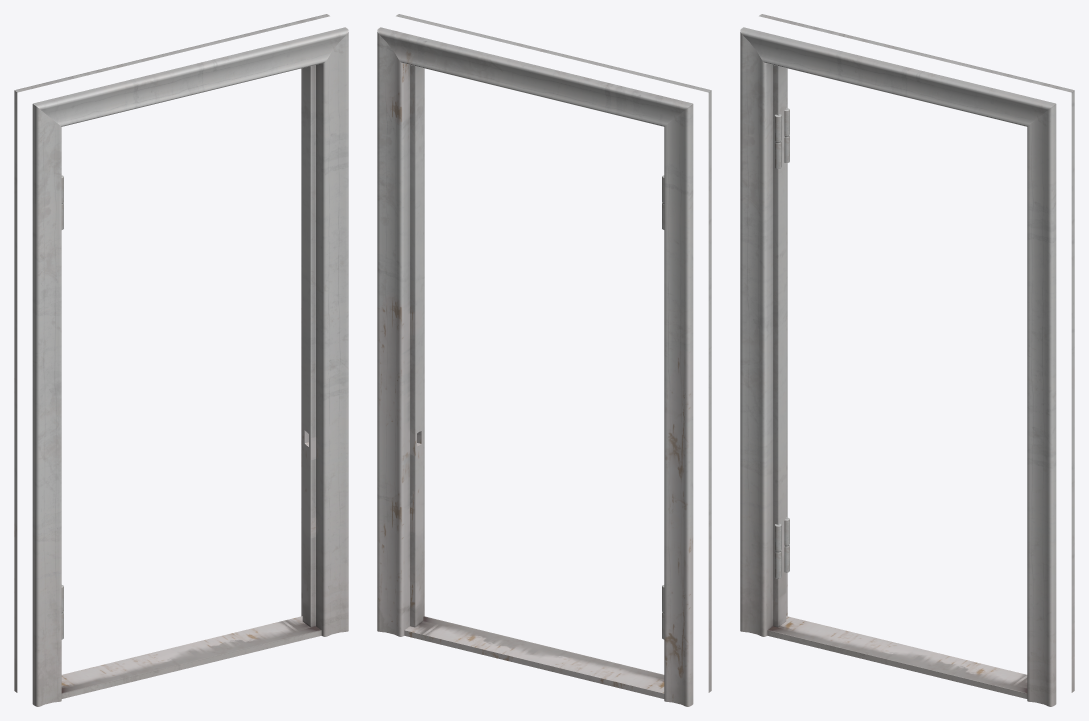
File: DoorFrame.gltf
3 renders of one model, left to right at view 1: azimuth 30°, elevation 25°; view 2: azimuth 150°, elevation 25°; view 3: azimuth 330°, elevation 25°, orthographic.
Parts seen in each view (by area): view 1: SM_HospitalDoor_02_Frame; view 2: SM_HospitalDoor_02_Frame; view 3: SM_HospitalDoor_02_Frame.
Part boxes in pixels (x1,y1,x2,y2): SM_HospitalDoor_02_Frame: (14, 14, 348, 706); SM_HospitalDoor_02_Frame: (377, 14, 711, 706); SM_HospitalDoor_02_Frame: (740, 14, 1074, 706).
Bounding box in the file's own units: 1.2 × 2.2 × 0.1583.
1 material, 1 textured.
